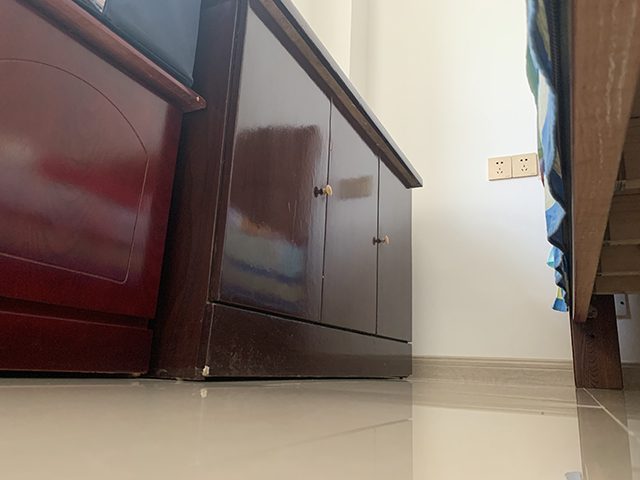cabinet: (148, 1, 424, 383), (1, 1, 208, 380)
